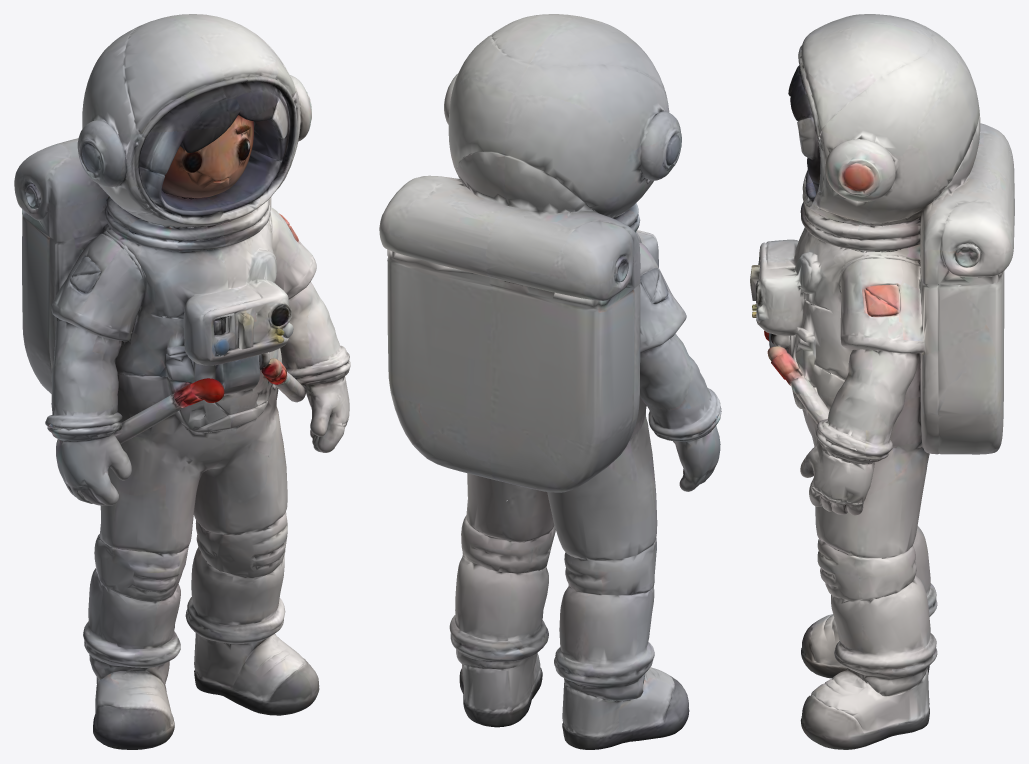
The model's file is astronaut.glb.
The picture shows the model from 3 angles, left to right: view 1: azimuth 30°, elevation 25°; view 2: azimuth 150°, elevation 25°; view 3: azimuth 270°, elevation 25°; orthographic projection. The views are drawn at different scales.
Parts seen in each view (by area): view 1: tripo_node_0b62877c-9888-4592-aa8f-455ea1abf576; view 2: tripo_node_0b62877c-9888-4592-aa8f-455ea1abf576; view 3: tripo_node_0b62877c-9888-4592-aa8f-455ea1abf576.
Part boxes in pixels (box(x1,y1,x2,y2)): tripo_node_0b62877c-9888-4592-aa8f-455ea1abf576: box(14, 14, 350, 749); tripo_node_0b62877c-9888-4592-aa8f-455ea1abf576: box(379, 14, 721, 749); tripo_node_0b62877c-9888-4592-aa8f-455ea1abf576: box(750, 14, 1014, 749).
Bounding box in the file's own units: 0.446 × 0.9786 × 0.3471.
1 material, 1 textured.
